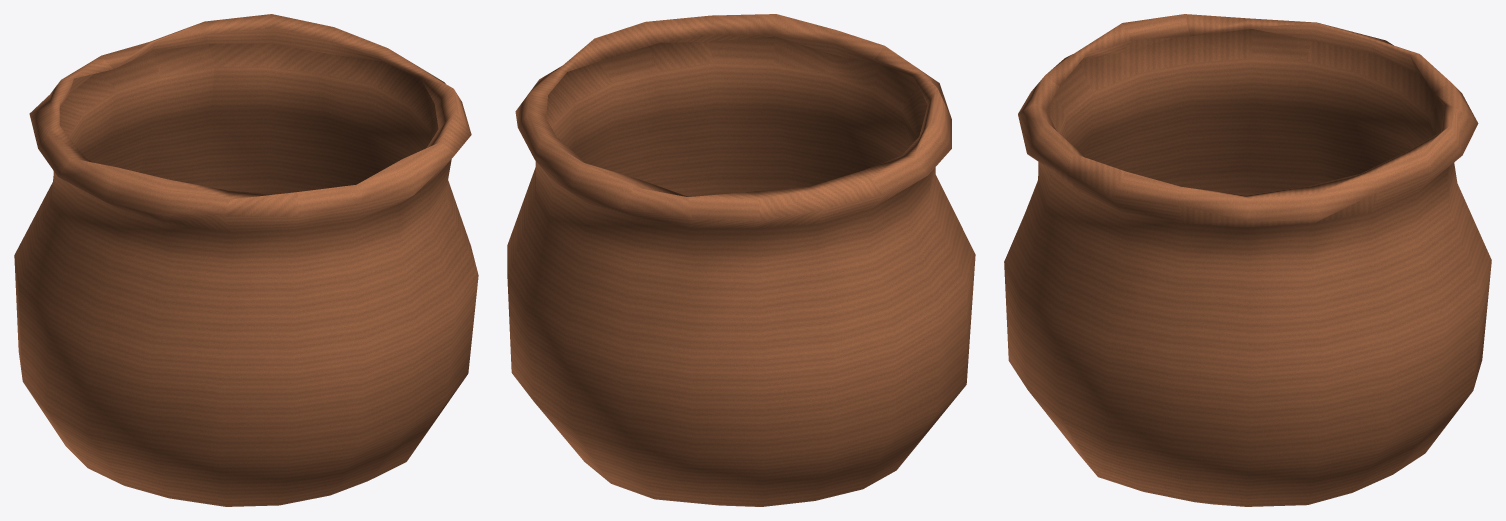
File: cookpot.glb
3 renders of one model, left to right at view 1: azimuth 30°, elevation 25°; view 2: azimuth 150°, elevation 25°; view 3: azimuth 270°, elevation 25°, orthographic. The views are drawn at different scales.
Parts seen in each view (by area): view 1: cookpot; view 2: cookpot; view 3: cookpot.
Boxes of the visible parts, x1,y1,x2,y2 form: cookpot: (14, 14, 478, 506); cookpot: (507, 14, 975, 506); cookpot: (1004, 14, 1491, 506).
Size of the model in its own units: 0.4337 by 0.3679 by 0.4386.
1 material, 1 textured.
